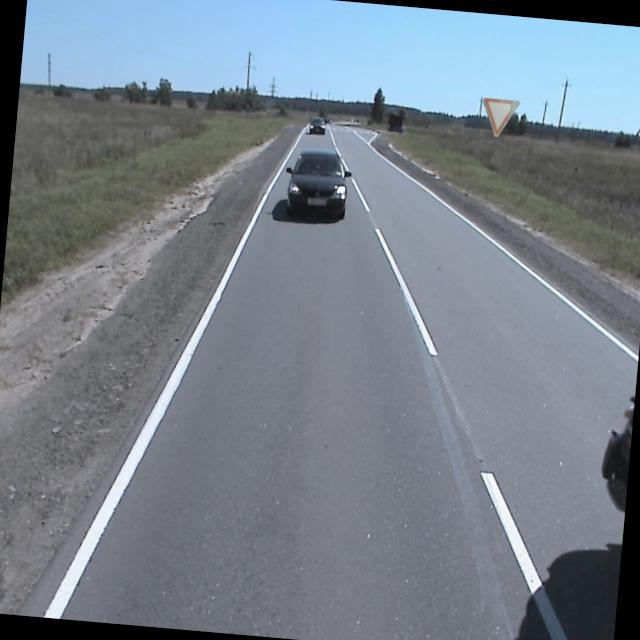road: (15, 126, 638, 640)
